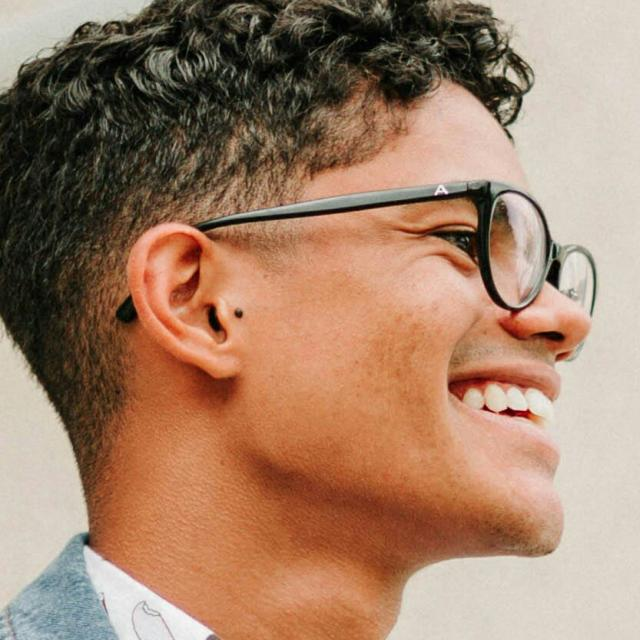front: (267, 101, 594, 546)
